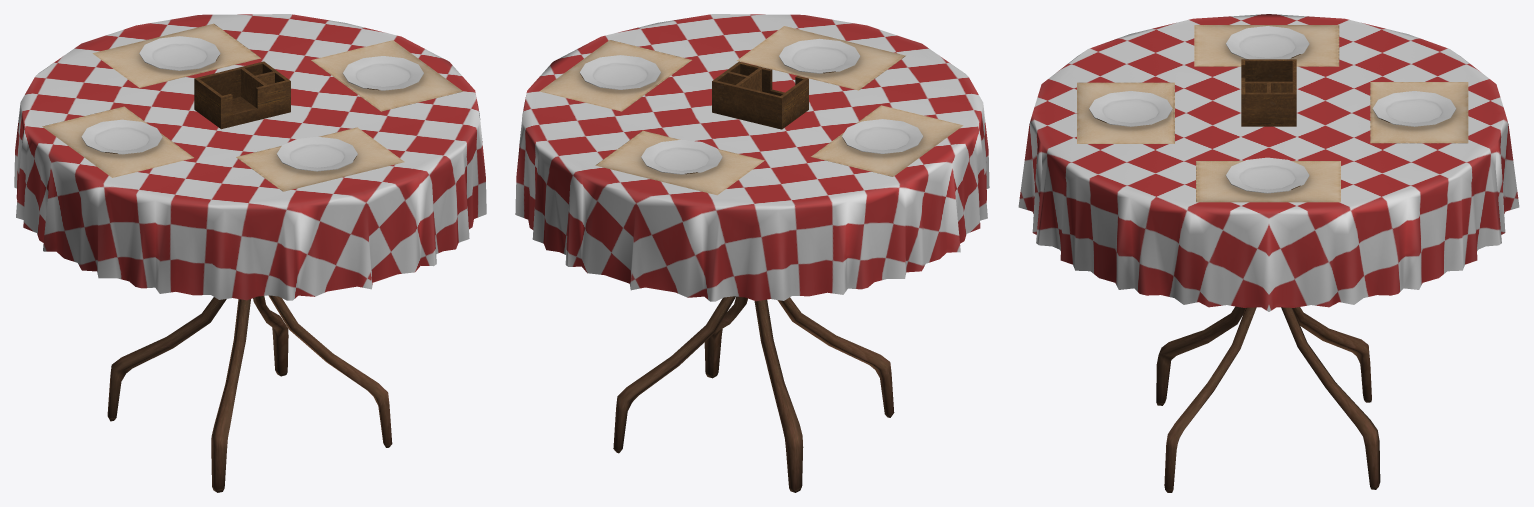
Rendered from Vin_Table_Cafe.fbx.
3 views of the same model, side by side, from view 1: azimuth 30°, elevation 25°; view 2: azimuth 150°, elevation 25°; view 3: azimuth 270°, elevation 25° (orthographic). The views are drawn at different scales.
Visible parts, largest first — view 1: Vin_Table_Cafe; view 2: Vin_Table_Cafe; view 3: Vin_Table_Cafe.
Part boxes in pixels (x1,y1,x2,y2): Vin_Table_Cafe: [14, 14, 486, 492]; Vin_Table_Cafe: [515, 14, 989, 492]; Vin_Table_Cafe: [1018, 14, 1519, 492].
Size of the model in its own units: 125 by 102 by 127.
